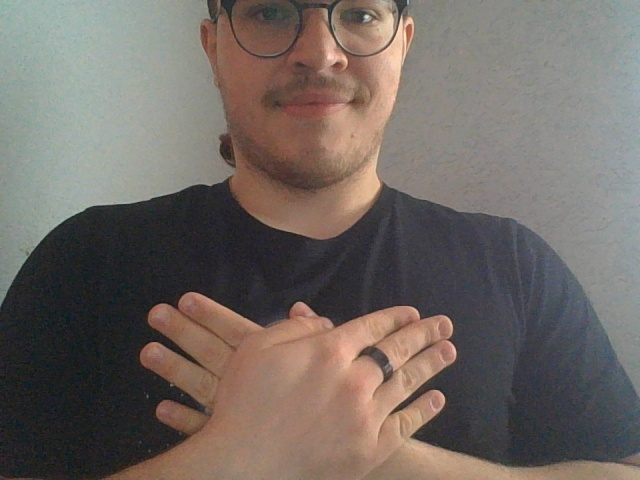Love: (135, 289, 461, 480)
